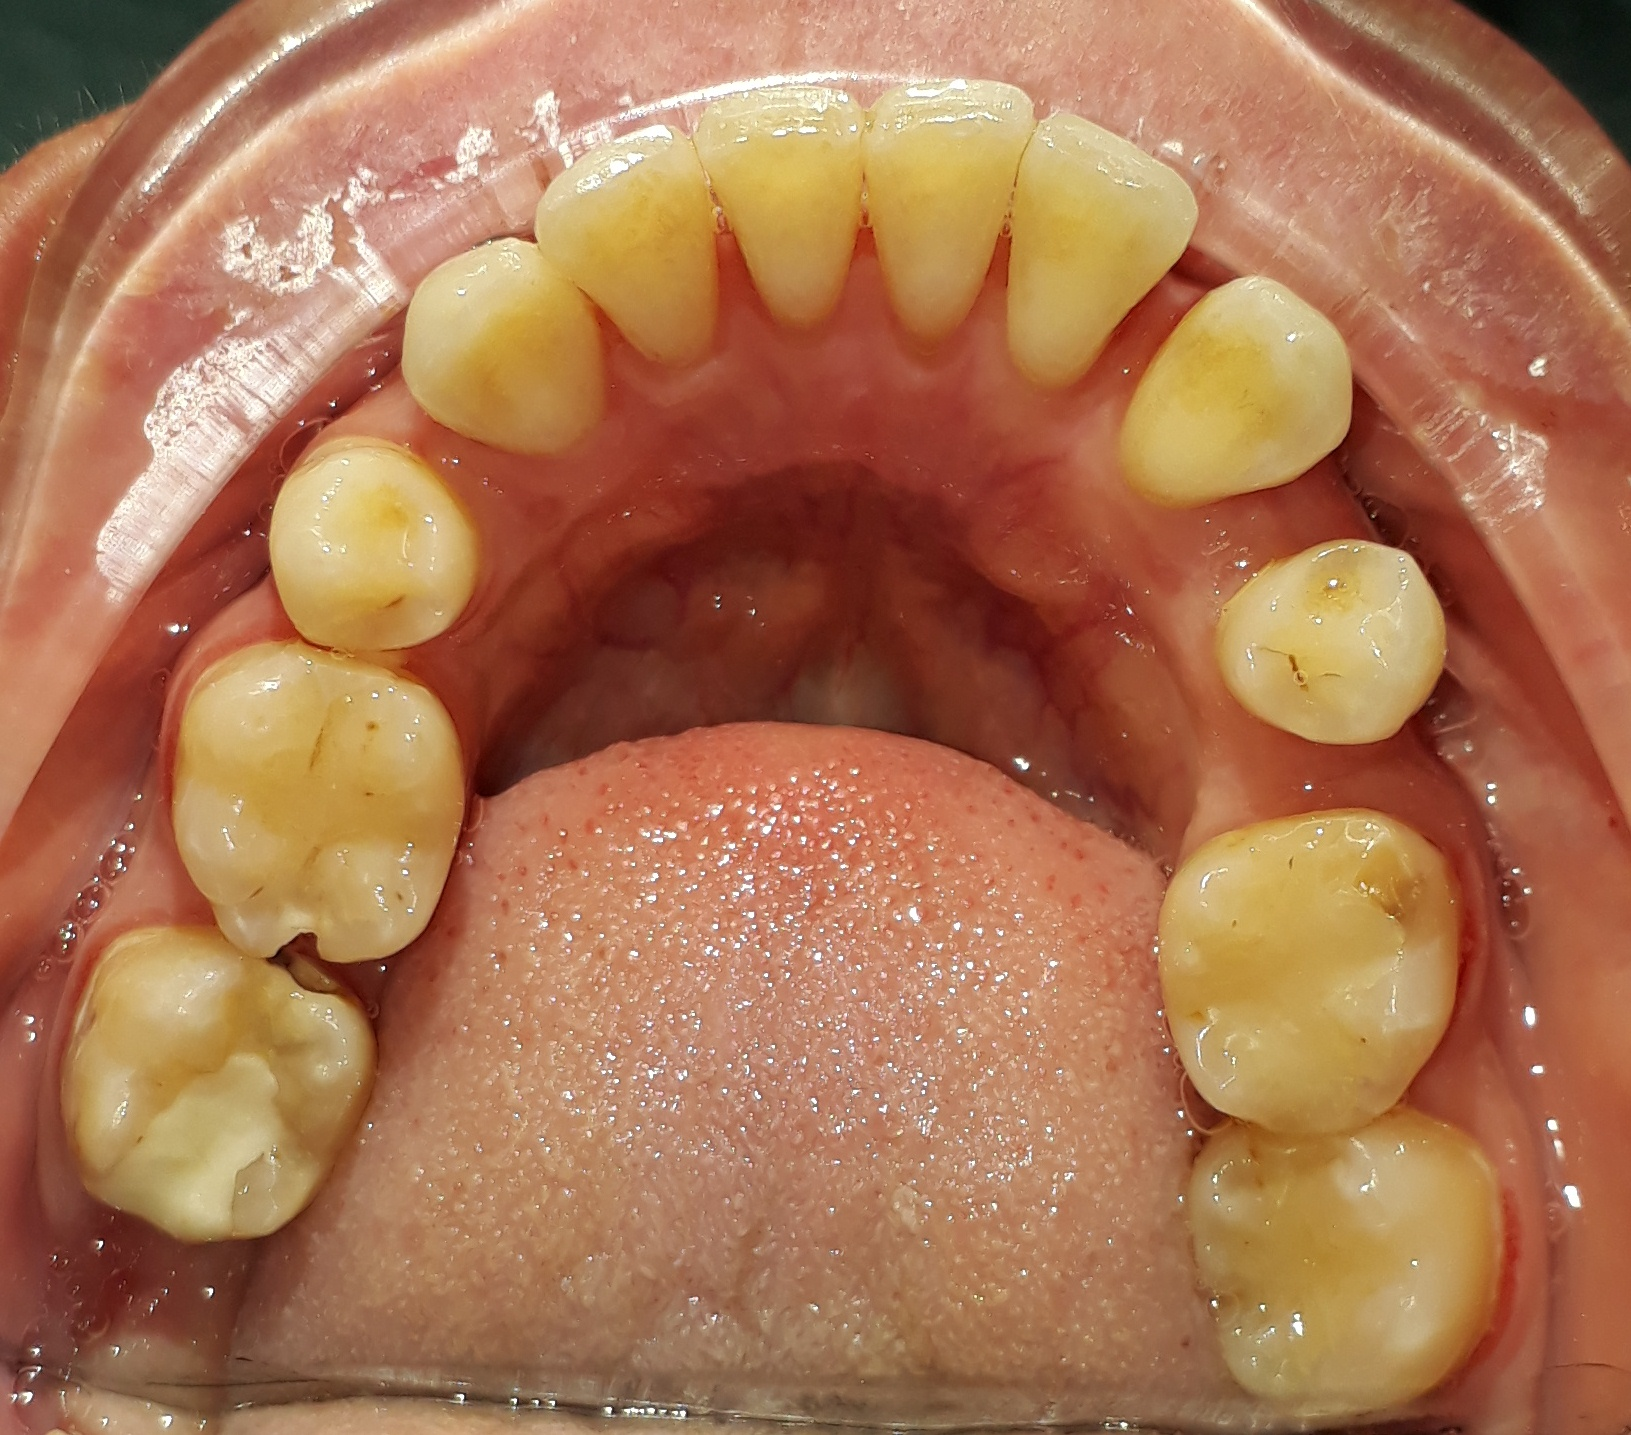1st Molar: (62, 923, 372, 1244), (1189, 1124, 1517, 1425)
1st Premolar: (1208, 531, 1447, 751), (264, 440, 477, 656)
2nd Premolar: (1155, 800, 1469, 1129), (173, 646, 465, 958)
Canine: (1116, 263, 1361, 507), (392, 234, 607, 455)
Central Incisor: (700, 83, 868, 365), (870, 79, 1019, 359)
Lateral Incisor: (994, 105, 1191, 402), (537, 119, 710, 372)
